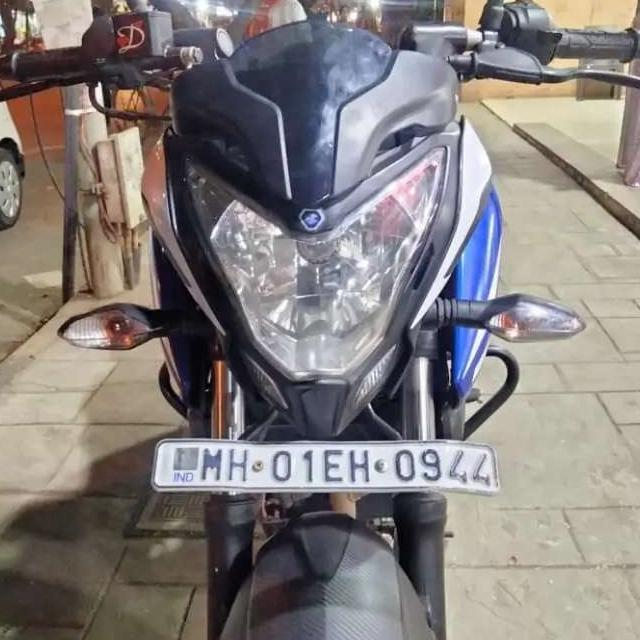Indian_Number_Plate: (160, 441, 497, 490)
